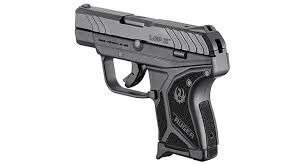gun: (73, 2, 231, 163)
